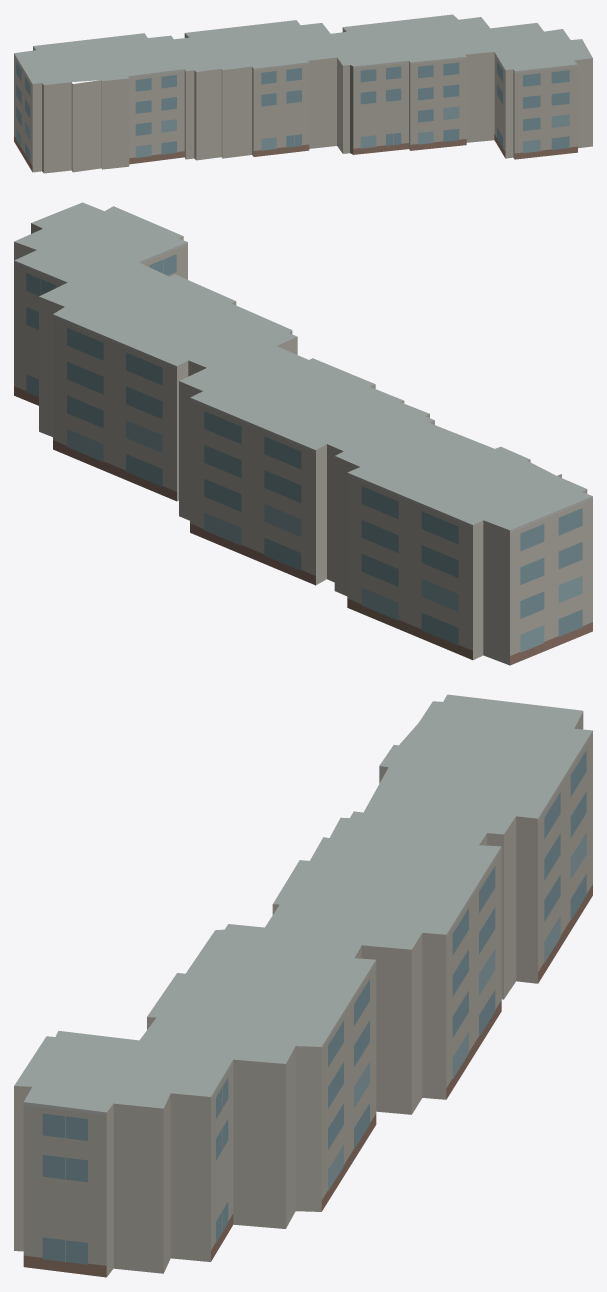
The model's file is survey-upis-32468878.glb.
The picture shows the model from 3 angles, top to bottom: view 1: azimuth 30°, elevation 25°; view 2: azimuth 150°, elevation 25°; view 3: azimuth 270°, elevation 25°; orthographic projection. The views are drawn at different scales.
Parts seen in each view (by area): view 1: survey-upis-32468878.tmp; view 2: survey-upis-32468878.tmp; view 3: survey-upis-32468878.tmp.
Boxes of the visible parts, bbox=[...] form: survey-upis-32468878.tmp: bbox=[14, 14, 592, 173]; survey-upis-32468878.tmp: bbox=[14, 202, 592, 665]; survey-upis-32468878.tmp: bbox=[14, 694, 592, 1277].
Bounding box in the file's own units: 66.25 × 12.2 × 38.78.
